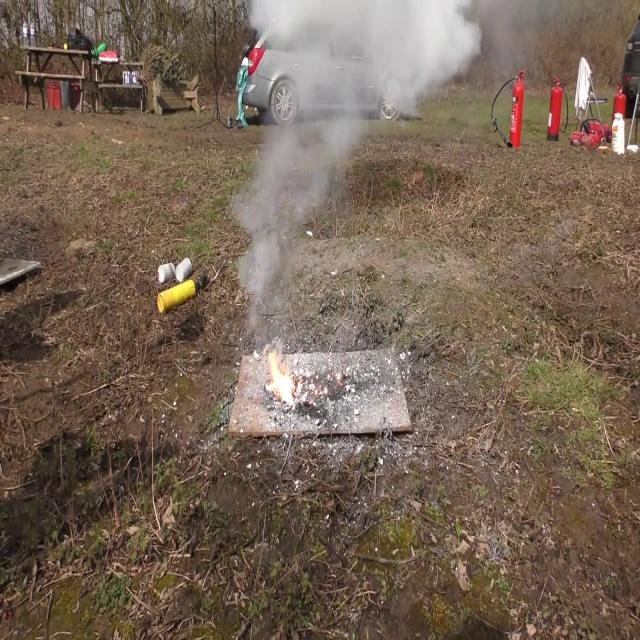Fire: (264, 344, 297, 404)
Smoke: (228, 0, 472, 326)
